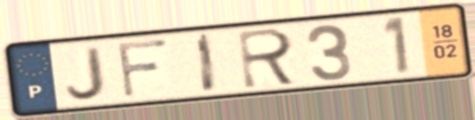1: (381, 14, 413, 76)
3: (305, 22, 353, 83)
F: (114, 36, 171, 101)
I: (195, 31, 221, 95)
J: (64, 43, 108, 102)
R: (235, 25, 301, 91)
